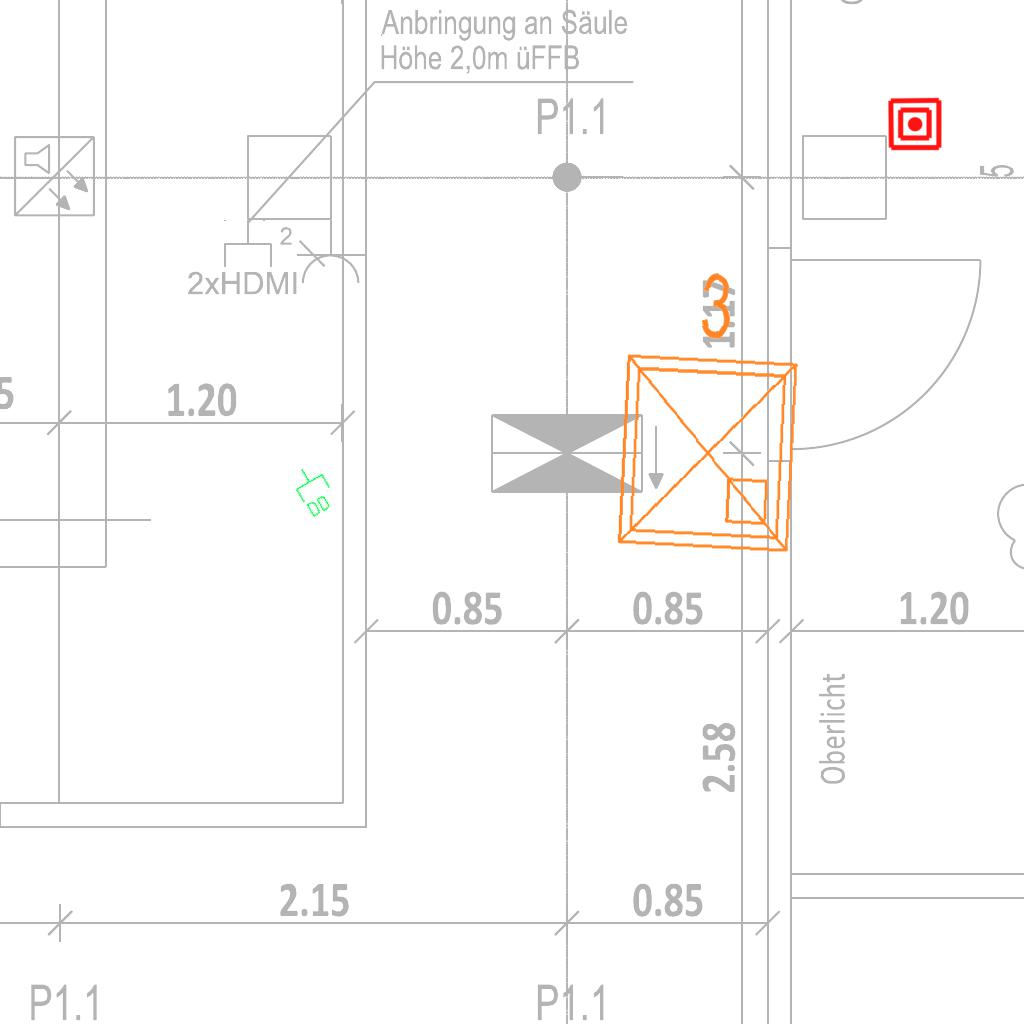Datenanschluss_zweifach: (286, 459, 341, 521)
Einbaudownlights_LED_Konferenzraeume: (594, 256, 818, 568)
NAM-Nichtautomatischer_Melder: (887, 96, 943, 152)
